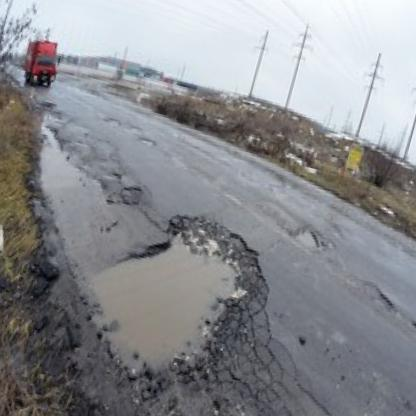pothole: (69, 198, 274, 409), (358, 280, 397, 312), (291, 223, 325, 252), (102, 168, 124, 184), (126, 122, 146, 138), (407, 316, 416, 345), (101, 114, 121, 127), (123, 183, 141, 196), (138, 137, 156, 148)
